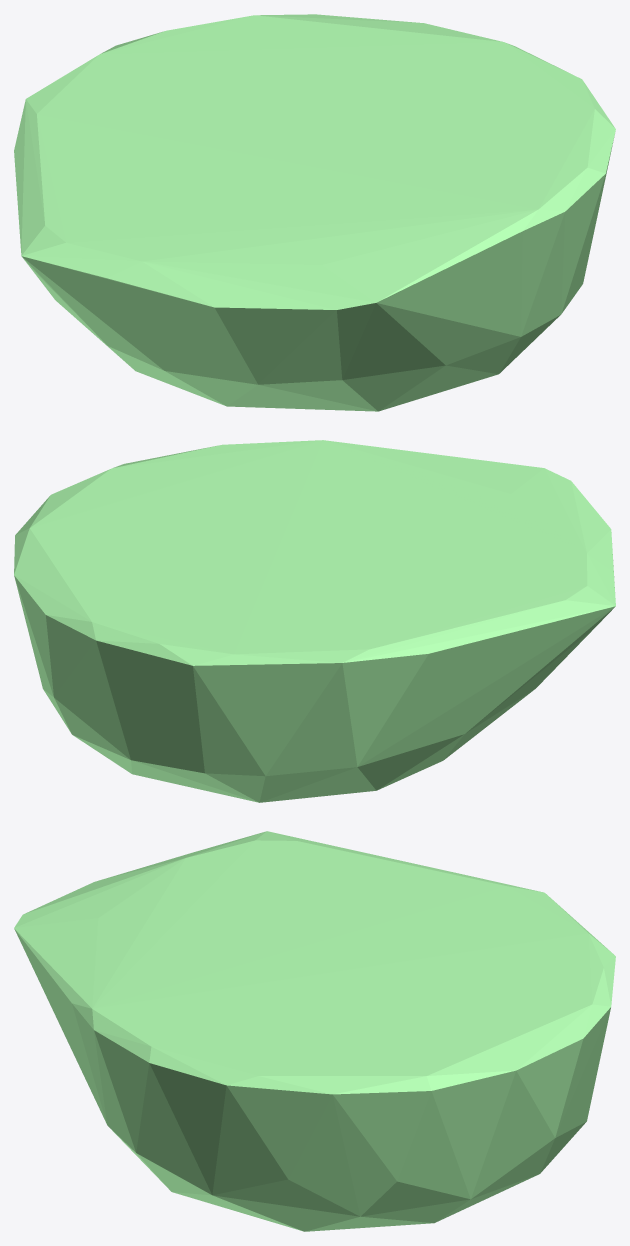
The model's file is panda_link5_resp_coll_1.dae.
The picture shows the model from 3 angles, top to bottom: view 1: azimuth 30°, elevation 25°; view 2: azimuth 150°, elevation 25°; view 3: azimuth 270°, elevation 25°; orthographic projection. The views are drawn at different scales.
Parts seen in each view (by area): view 1: node; view 2: node; view 3: node.
Boxes of the visible parts, bbox=[...] form: node: bbox=[14, 14, 615, 411]; node: bbox=[14, 440, 615, 802]; node: bbox=[14, 831, 615, 1231].
Bounding box in the file's own units: 0.1213 × 0.0383 × 0.1151.
